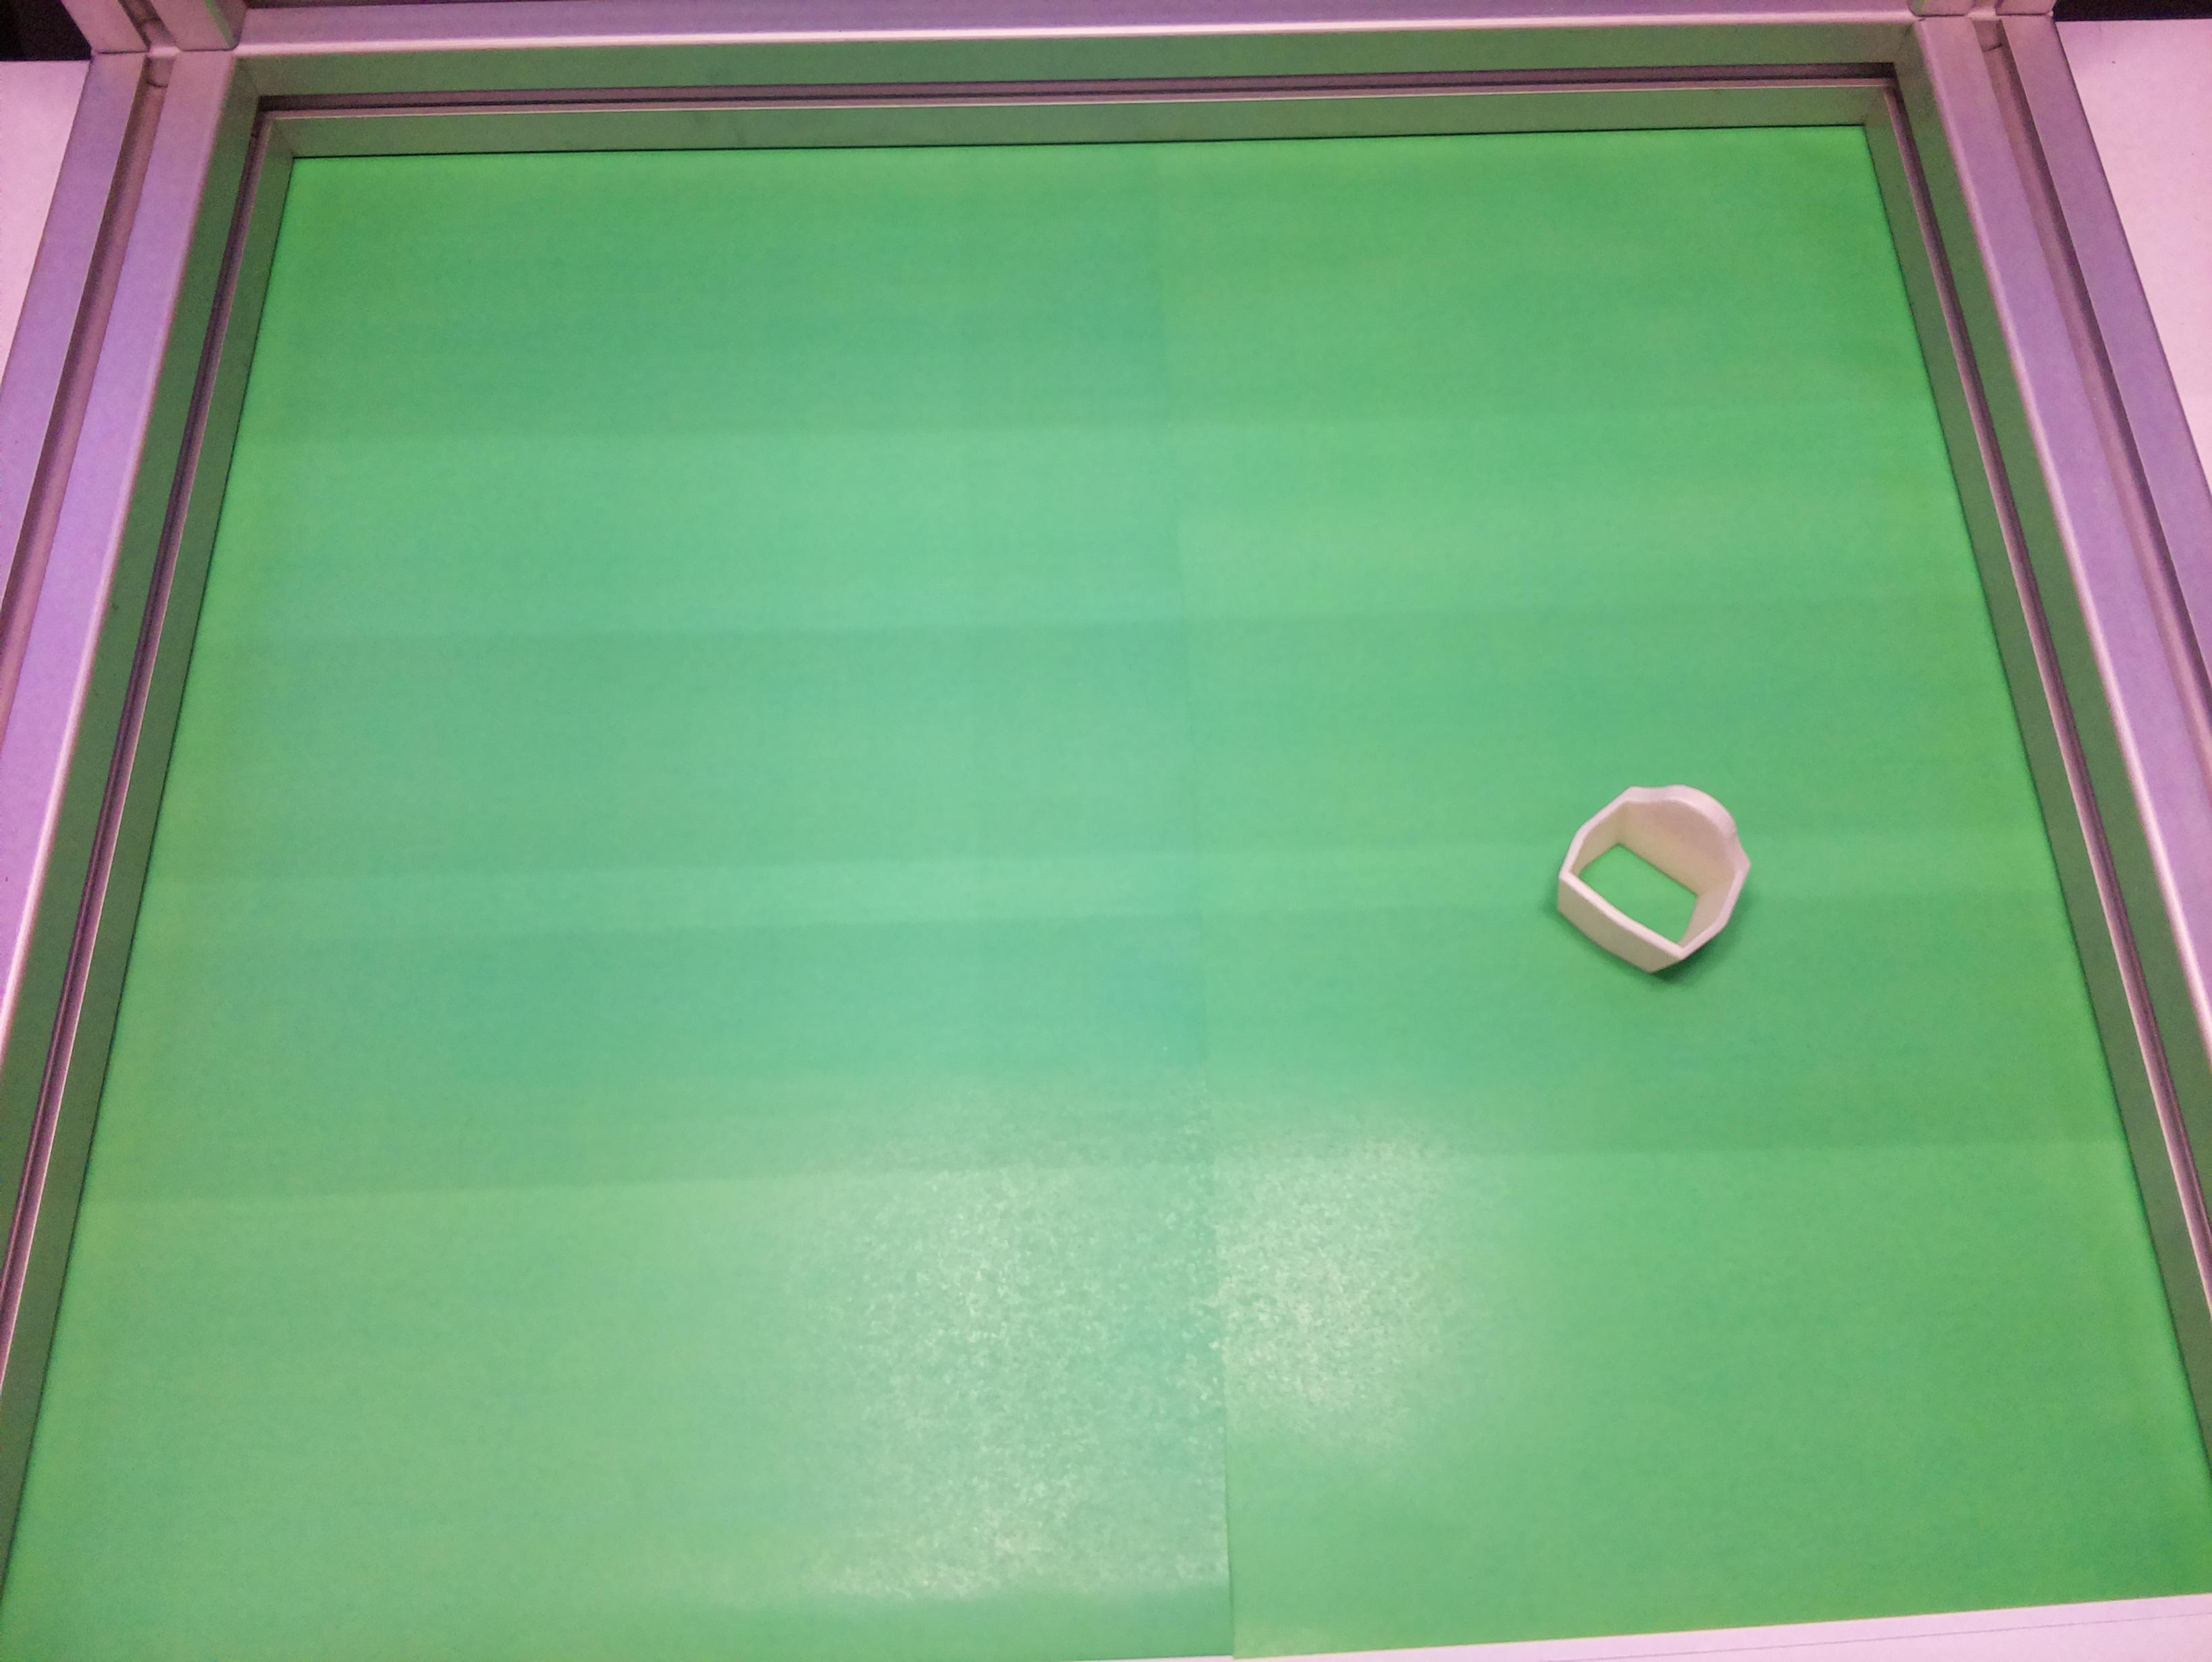tool_holder: (1531, 745, 1783, 1000)
